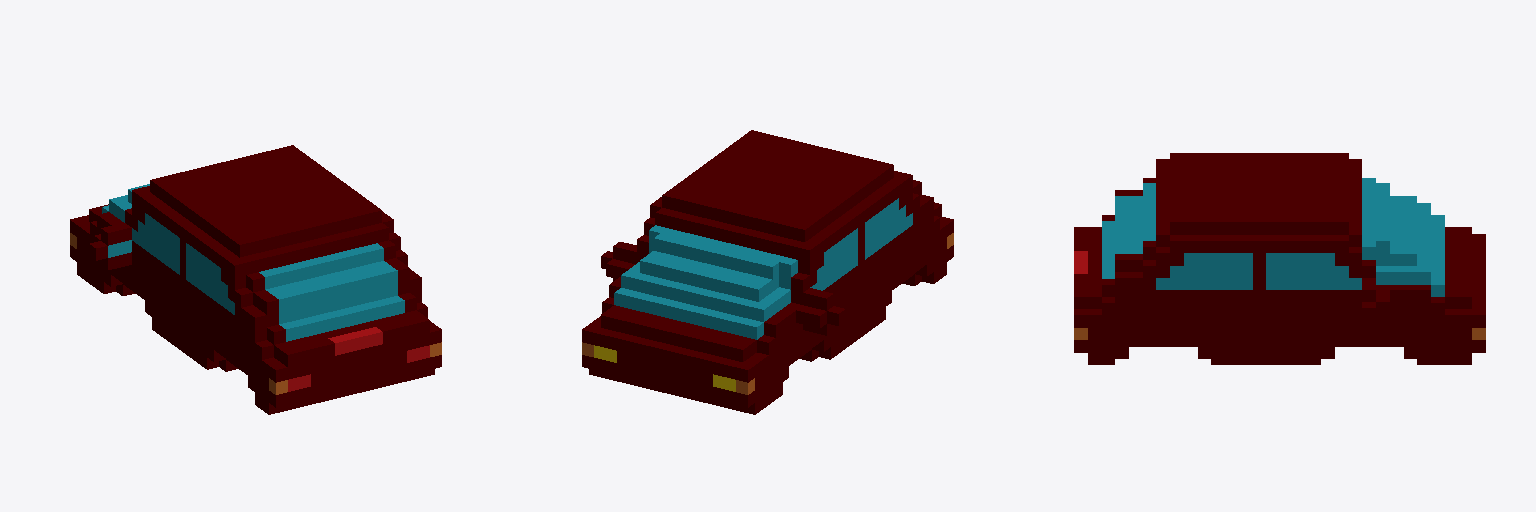
3 renders of one model, left to right at view 1: azimuth 30°, elevation 25°; view 2: azimuth 150°, elevation 25°; view 3: azimuth 270°, elevation 25°, orthographic.
Parts seen in each view (by area): view 1: CarModel_Corpus; view 2: CarModel_Corpus; view 3: CarModel_Corpus.
Part boxes in pixels (x1,y1,x2,y2): CarModel_Corpus: (70,145,441,414); CarModel_Corpus: (582,130,953,414); CarModel_Corpus: (1074,153,1485,364).
Bounding box in the file's own units: 20 × 11 × 30.
Materials: 1 (1 with a texture image).